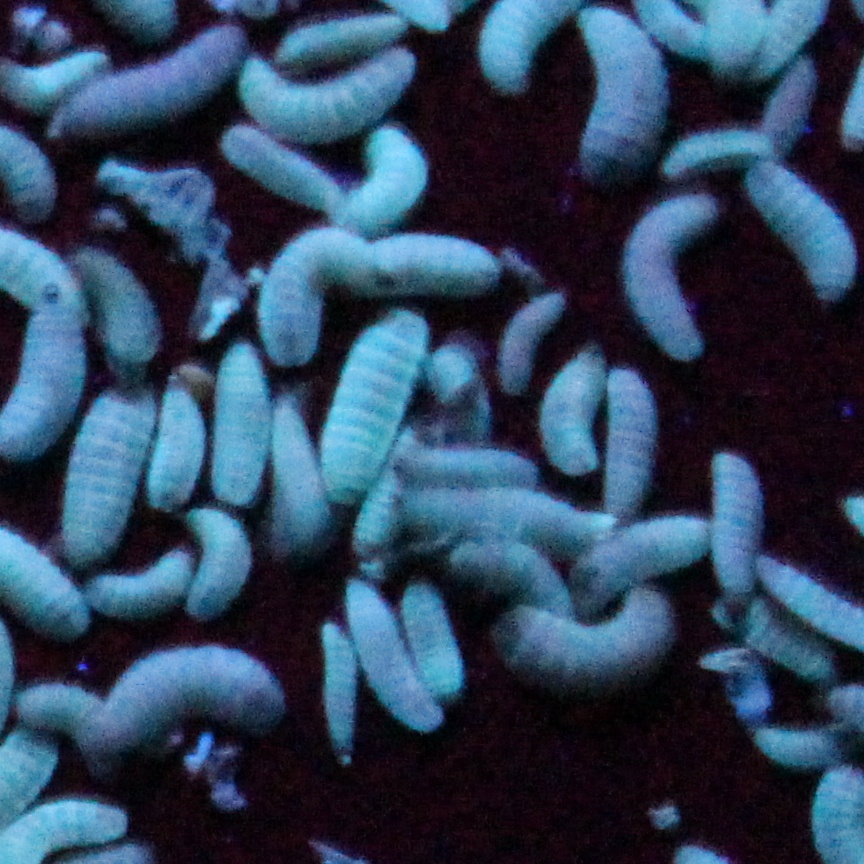larve: (309, 311, 434, 497), (724, 143, 861, 285), (58, 30, 248, 130), (90, 638, 273, 726), (336, 577, 436, 736), (619, 204, 724, 355), (576, 5, 665, 182), (237, 51, 409, 141), (504, 589, 678, 677), (257, 228, 362, 368), (585, 504, 712, 604), (73, 377, 141, 555), (390, 572, 475, 709), (397, 489, 624, 536), (216, 140, 352, 213), (595, 360, 658, 516), (206, 340, 266, 500), (358, 233, 511, 289), (342, 125, 429, 223), (543, 343, 602, 485), (143, 385, 209, 511), (180, 497, 248, 616), (709, 448, 765, 592), (85, 543, 183, 619), (309, 616, 363, 753), (744, 616, 848, 682), (17, 667, 107, 743), (498, 292, 570, 387), (284, 15, 404, 68), (646, 126, 797, 167), (370, 441, 539, 477), (724, 733, 848, 763)
